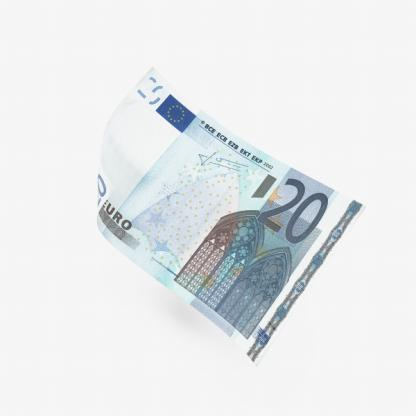billete: (94, 63, 367, 371)
